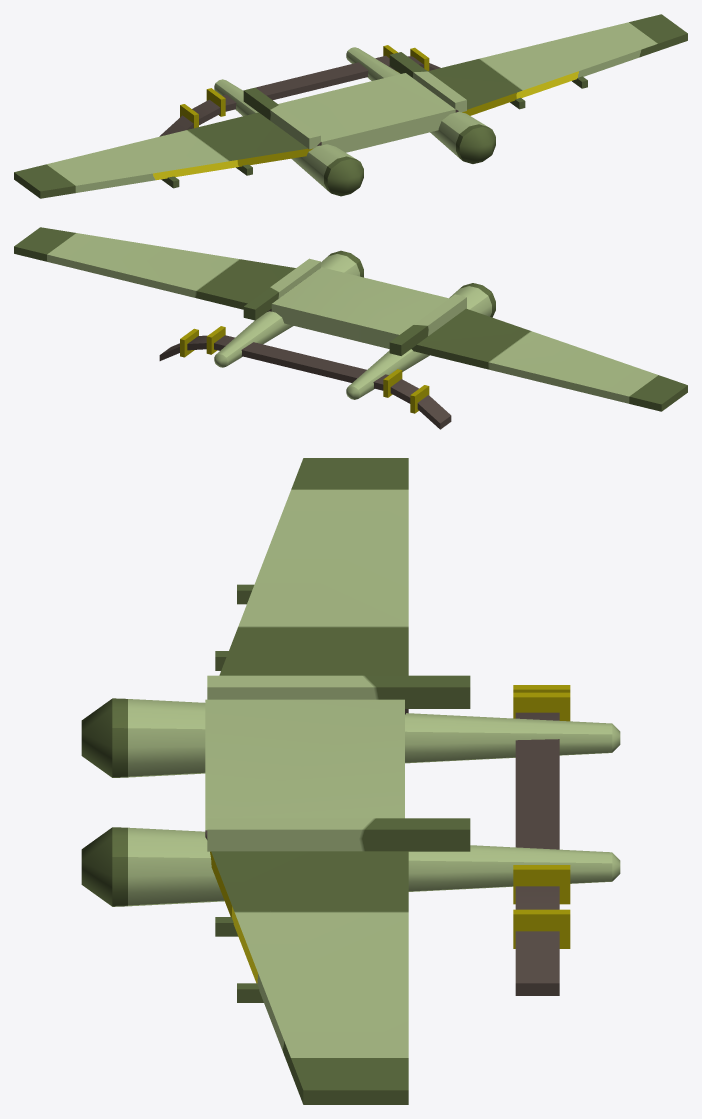
The model's file is BossBase.fbx.
3 views of the same model, one above another, from view 1: azimuth 30°, elevation 25°; view 2: azimuth 150°, elevation 25°; view 3: azimuth 270°, elevation 25° (orthographic). The views are drawn at different scales.
Visible parts, largest first — view 1: Boss; view 2: Boss; view 3: Boss.
Boxes of the visible parts, bbox=[...] form: Boss: bbox=[14, 14, 687, 198]; Boss: bbox=[14, 227, 687, 429]; Boss: bbox=[81, 458, 620, 1104].
Bounding box in the file's own units: 93.02 × 7.3 × 33.52.
